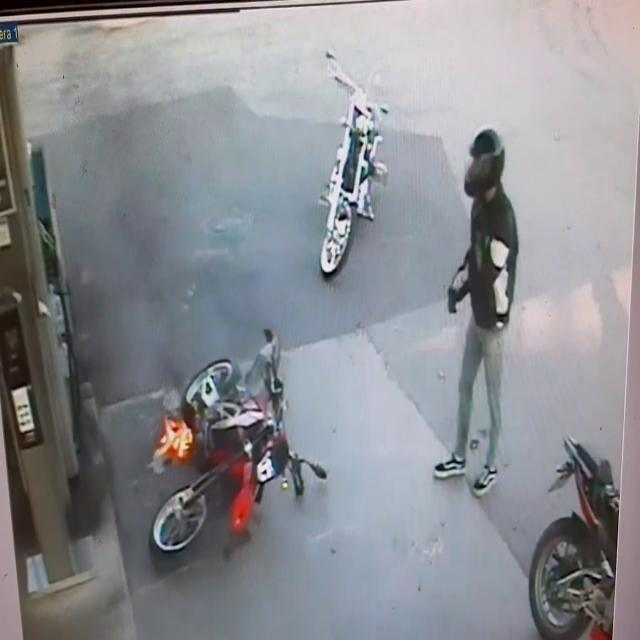Fire: (152, 412, 196, 464)
Smoke: (33, 39, 259, 398)
